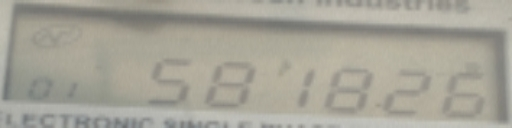1: (295, 58, 318, 109)
2: (384, 61, 431, 117)
5: (148, 59, 192, 112)
8: (203, 57, 257, 115), (321, 55, 369, 117), (441, 63, 484, 120)
d: (372, 94, 385, 112)
